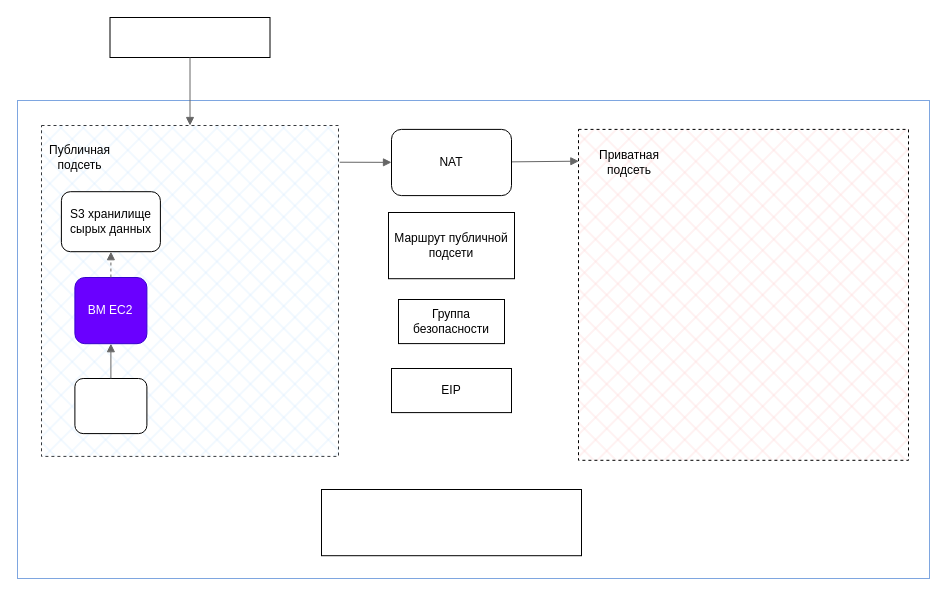
This 947x596 diagram has some shape labels left out. The centre of each missing label's shape, as x and y in pixels:
"Диск EBS" goes at (x=110, y=406).
"Интернет шлюз" goes at (x=189, y=37).
"Маршрут приватной подсети" goes at (x=451, y=522).
